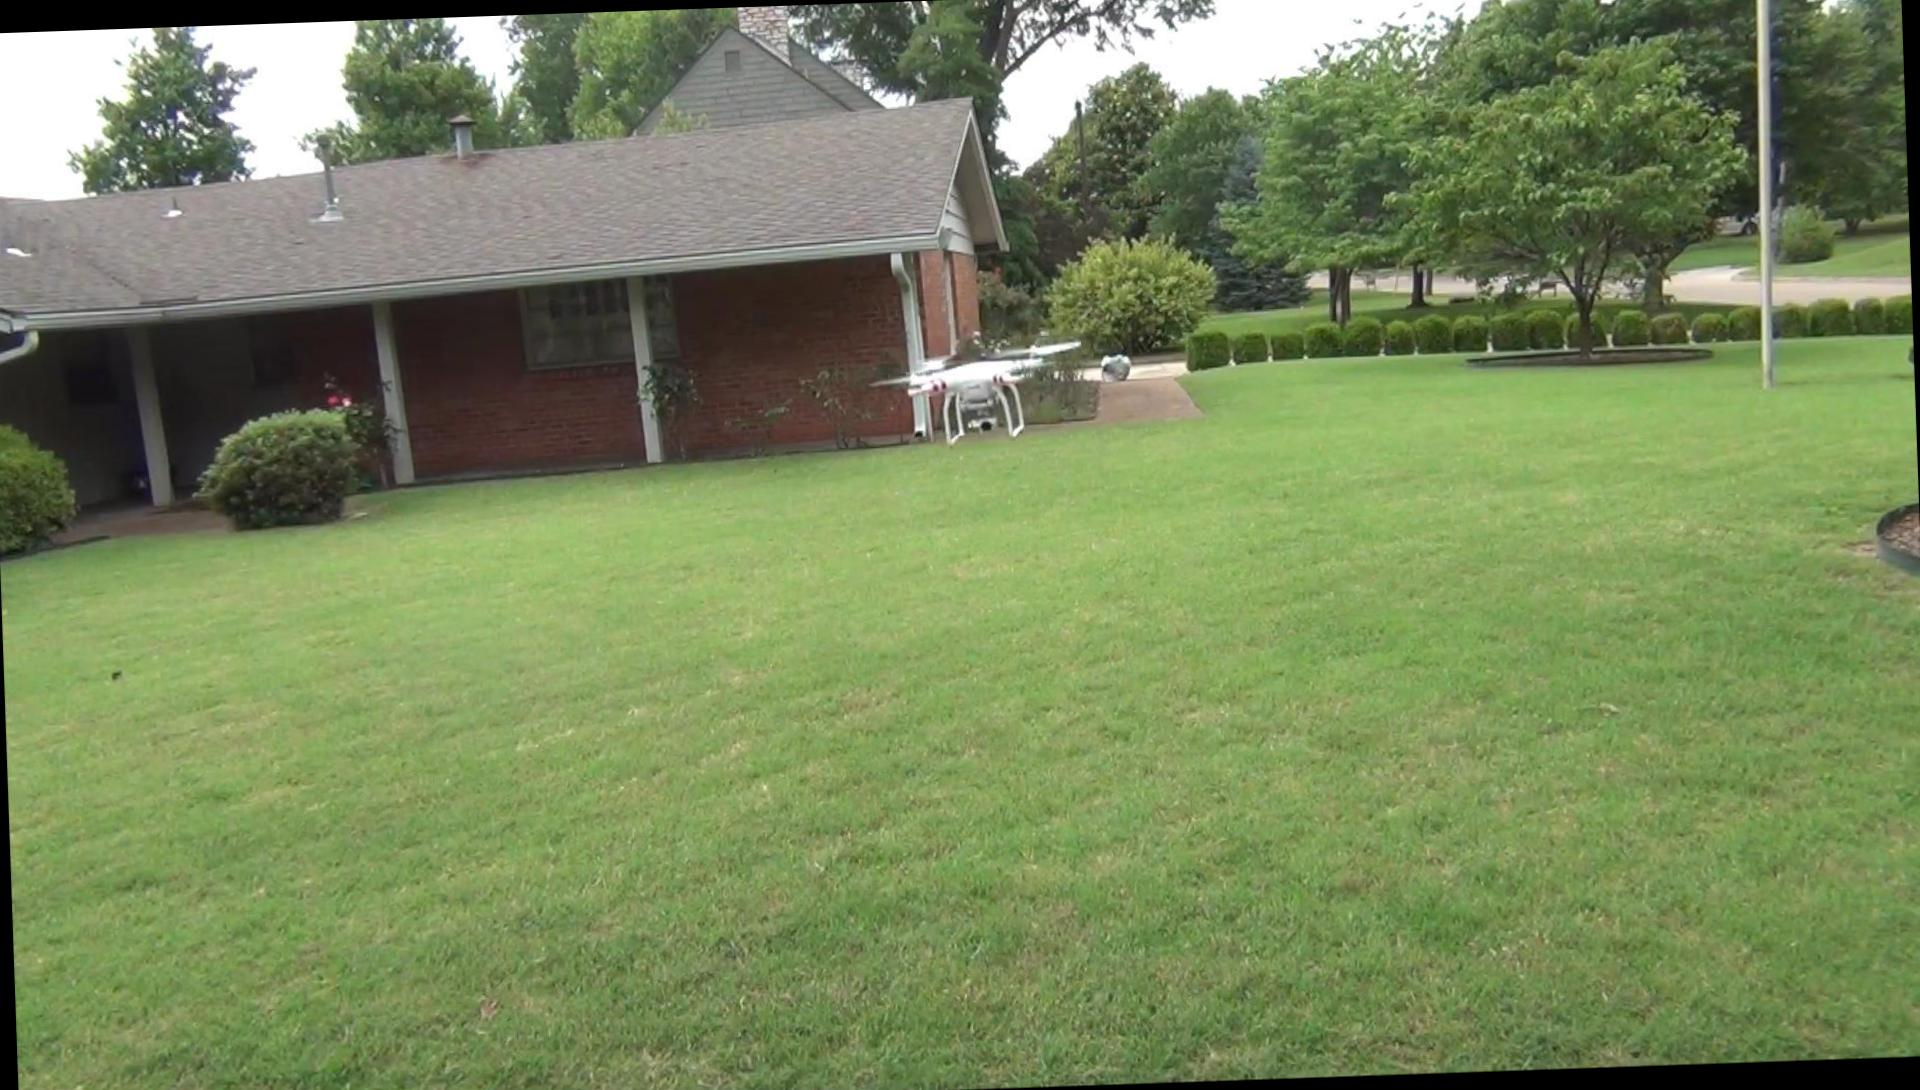drone: (884, 336, 1080, 444)
